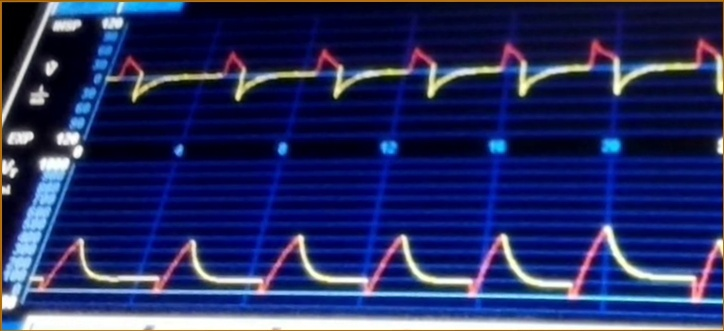Flow: (115, 28, 724, 129)
Leakage Volume: (36, 225, 724, 312)
